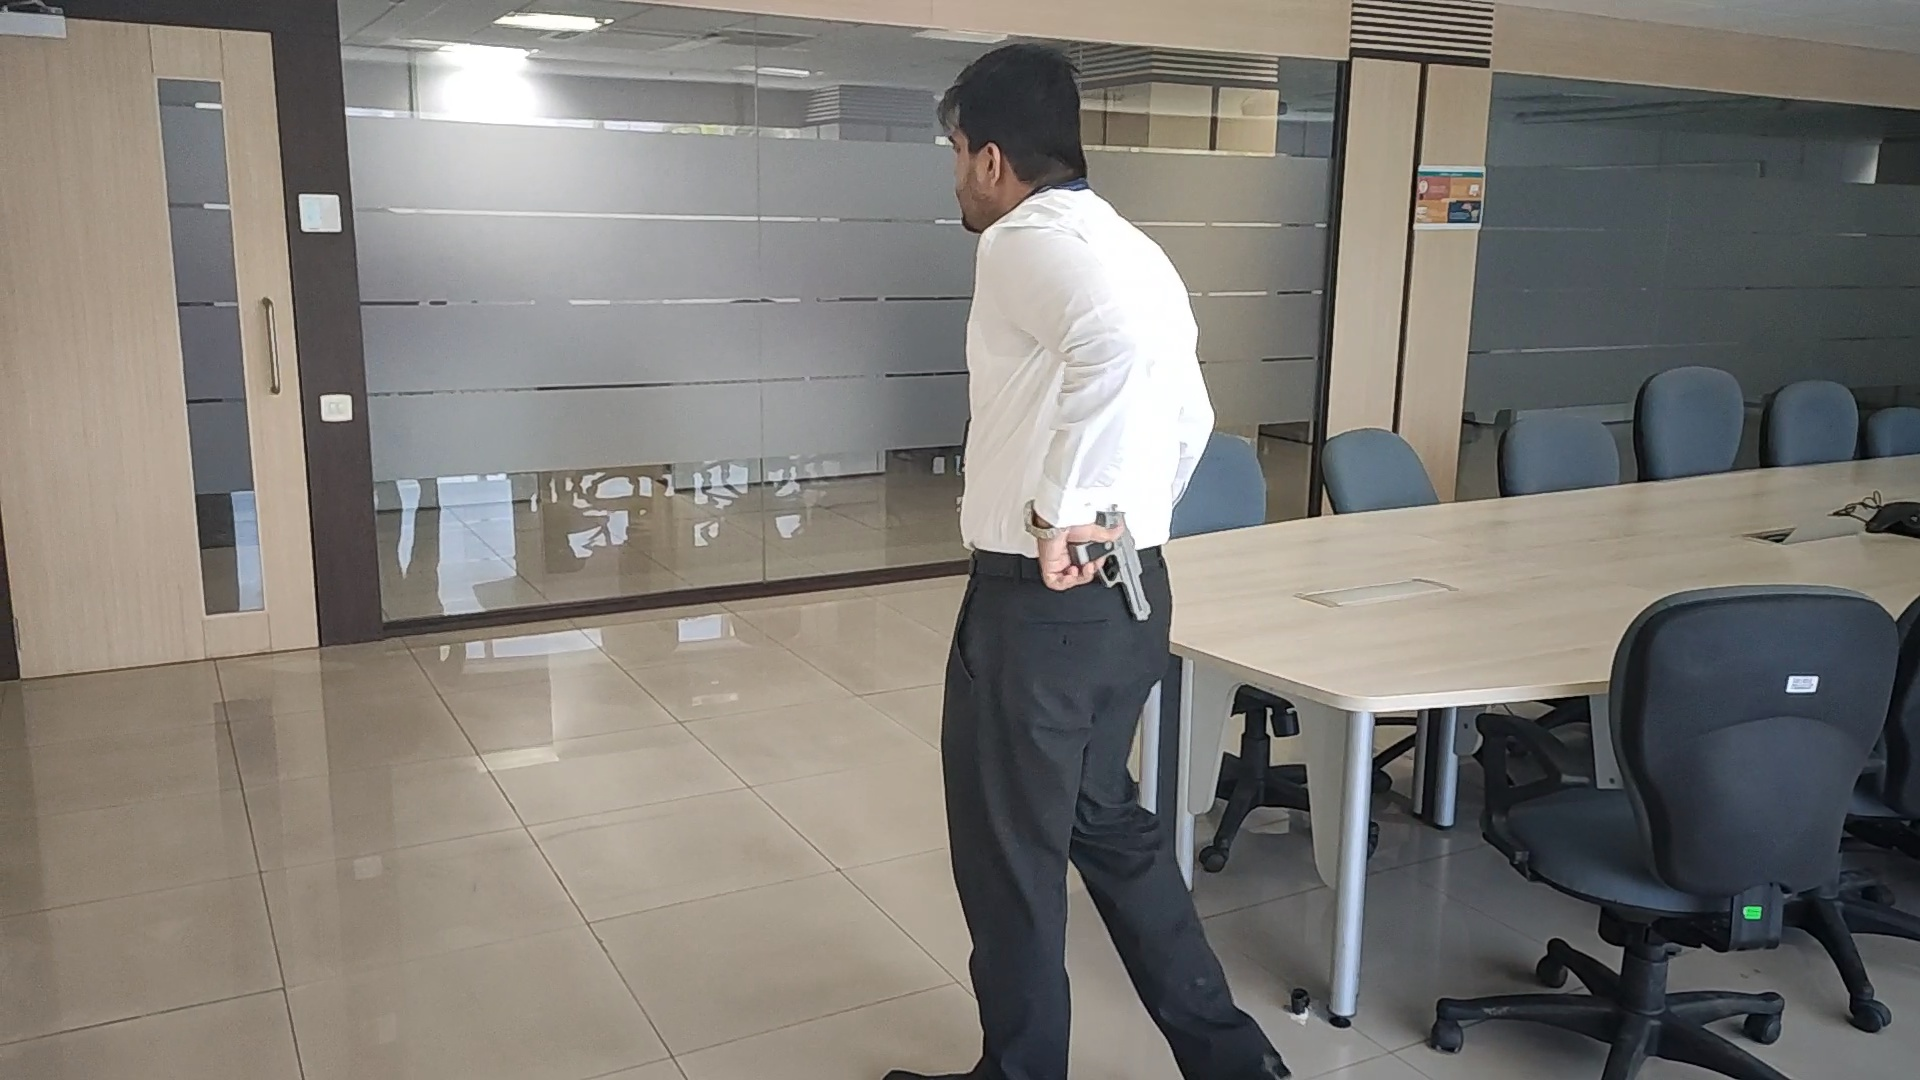gun: (1079, 509, 1151, 618)
